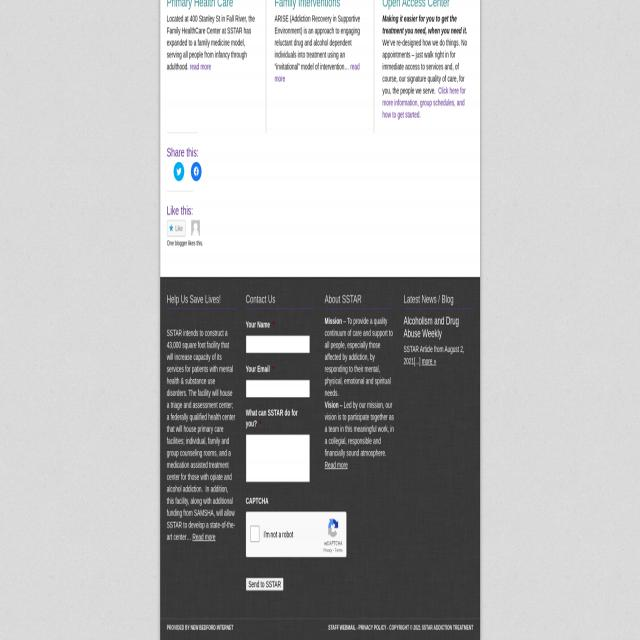button: (246, 577, 284, 591), (167, 220, 185, 237), (174, 162, 184, 181), (191, 162, 201, 181)
field: (246, 434, 310, 482), (246, 336, 310, 354), (246, 380, 310, 398), (250, 526, 260, 542)
